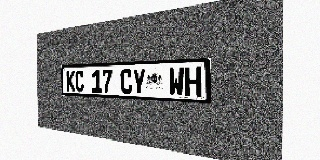1: (91, 70, 102, 93)
7: (102, 69, 112, 93)
C: (120, 69, 132, 94), (75, 70, 84, 92)
H: (185, 67, 202, 97)
K: (66, 71, 75, 92)
W: (169, 67, 184, 96)
Y: (133, 68, 146, 94)
